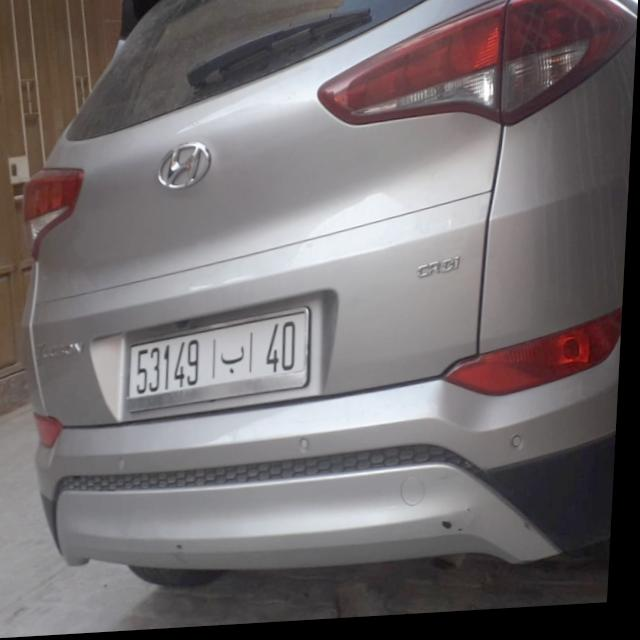License-Plate: (133, 314, 312, 412)
